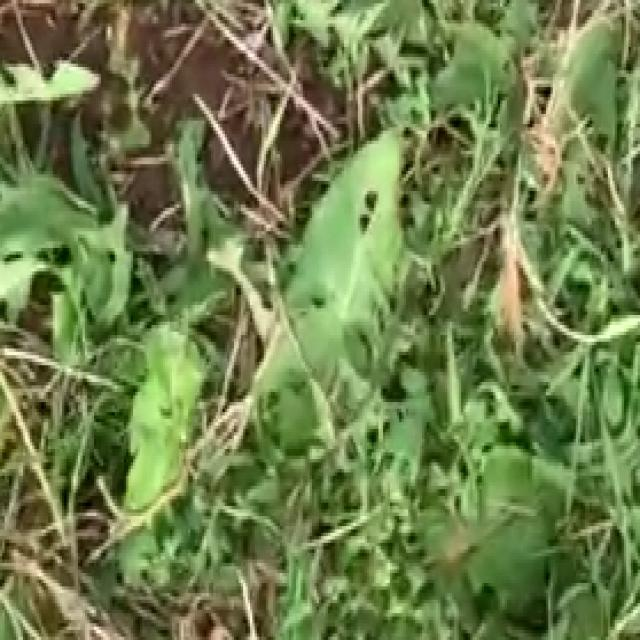organic waste: (181, 67, 514, 523)
